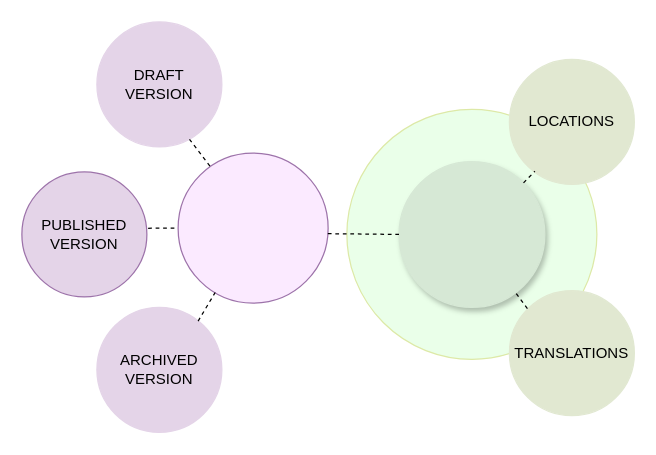
The diagram is 656 pixels wide and 455 high, and some of its shapes have lost their labels. Each missing label, with the centre of its shape:
"CONTENT ITEM" belongs at point 472,235.
"VERSIONS" belongs at point 252,227.
